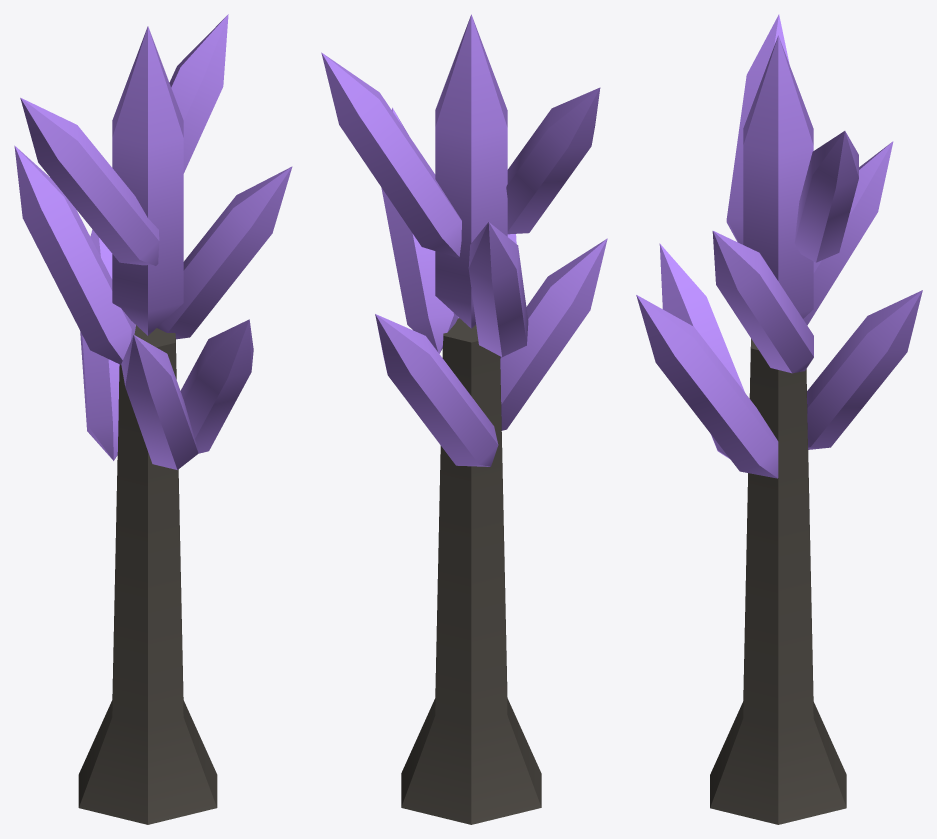
Rendered from baum_kristall.obj.
3 views of the same model, side by side, from view 1: azimuth 30°, elevation 25°; view 2: azimuth 150°, elevation 25°; view 3: azimuth 270°, elevation 25° (orthographic). The views are drawn at different scales.
Parts seen in each view (by area): view 1: baum_kristall_Koerper; view 2: baum_kristall_Koerper; view 3: baum_kristall_Koerper.
Boxes of the visible parts, <box> form: baum_kristall_Koerper: <box>14,14,292,824</box>; baum_kristall_Koerper: <box>321,14,607,824</box>; baum_kristall_Koerper: <box>636,14,922,824</box>.
Bounding box in the file's own units: 1.22 × 3.7 × 1.27.
